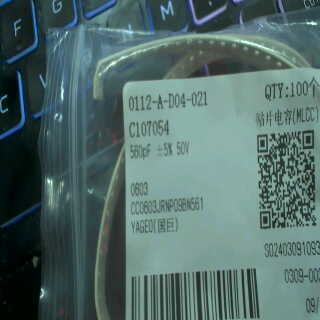560pF: (129, 142, 152, 160)
